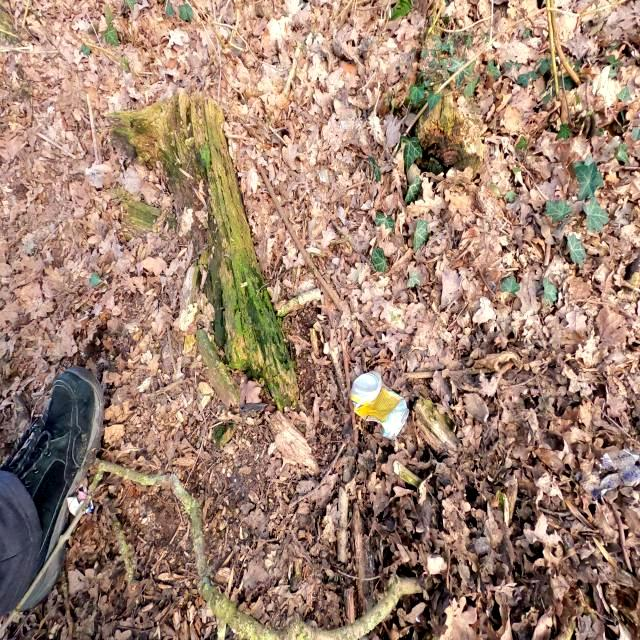Metal: (350, 368, 410, 444)
Plastic: (66, 482, 94, 518)
